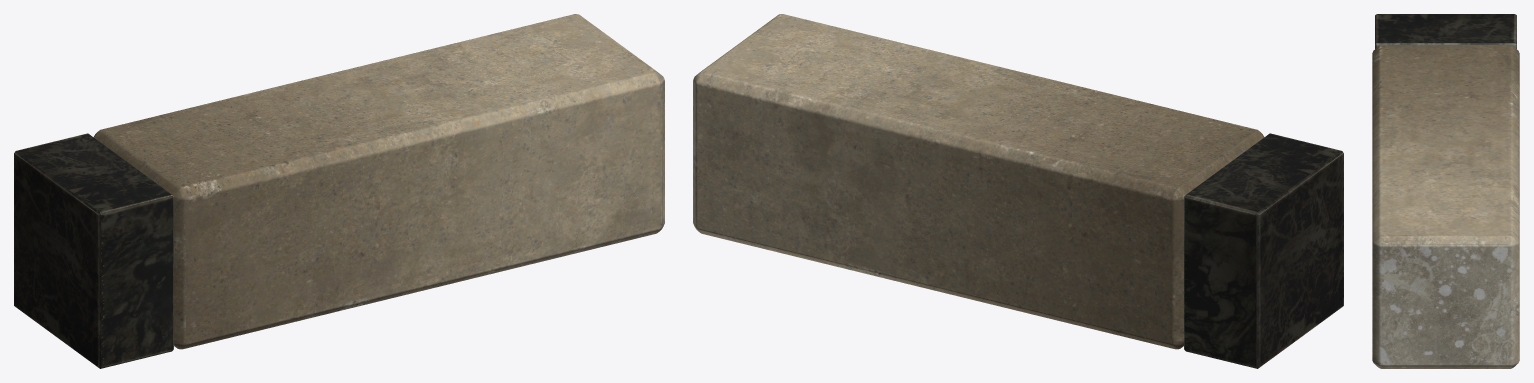
File: cP_CementPillar01_Medium.dae
The picture shows the model from 3 angles, left to right: view 1: azimuth 30°, elevation 25°; view 2: azimuth 150°, elevation 25°; view 3: azimuth 270°, elevation 25°; orthographic projection. The views are drawn at different scales.
Visible parts, largest first — view 1: cP_CementPillar01_Medium.001; view 2: cP_CementPillar01_Medium.001; view 3: cP_CementPillar01_Medium.001.
Part boxes in pixels (<box>): cP_CementPillar01_Medium.001: <box>14,14,664,368</box>; cP_CementPillar01_Medium.001: <box>693,14,1343,368</box>; cP_CementPillar01_Medium.001: <box>1372,14,1519,368</box>.
Bounding box in the file's own units: 1.43 × 0.3897 × 0.3897.
